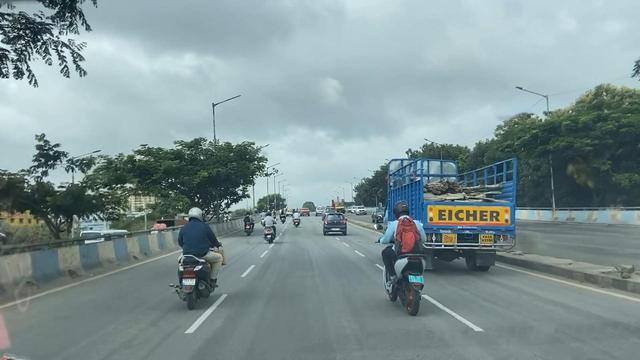LMV: (380, 210, 426, 317), (178, 204, 215, 300), (262, 212, 279, 240), (324, 217, 348, 236)
